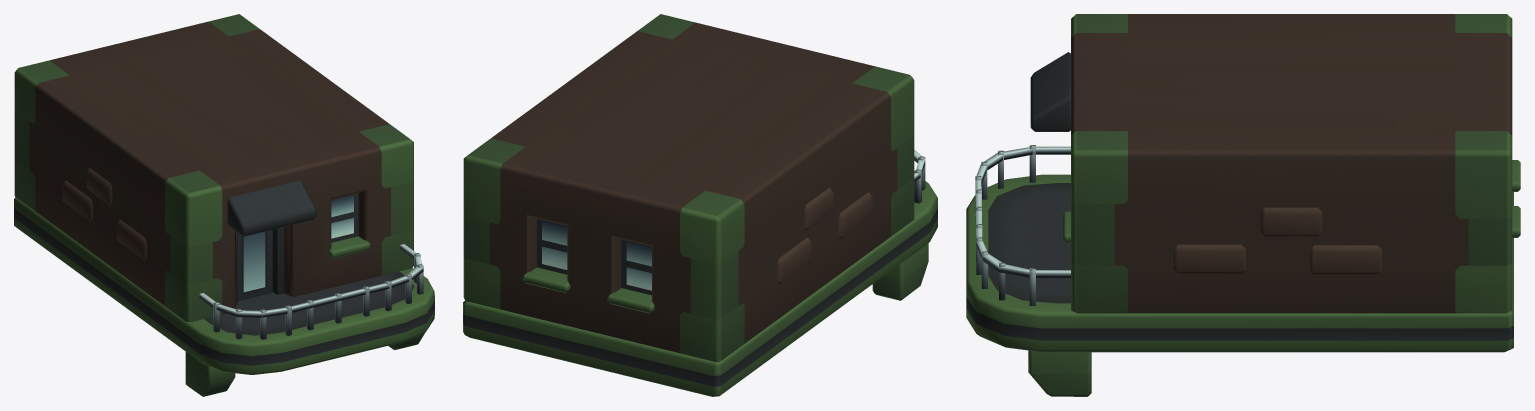
The model's file is appartment_type1_x3_balcony_brown.fbx.
3 renders of one model, left to right at view 1: azimuth 30°, elevation 25°; view 2: azimuth 150°, elevation 25°; view 3: azimuth 270°, elevation 25°, orthographic. The views are drawn at different scales.
Parts seen in each view (by area): view 1: appartment_type1_x3_balcony_brown, door_appartment_type1_x3_balcony_grey; view 2: appartment_type1_x3_balcony_brown; view 3: appartment_type1_x3_balcony_brown.
Boxes of the visible parts, left/top/right/bottom form: appartment_type1_x3_balcony_brown: left=14, top=14, right=434, bottom=396; door_appartment_type1_x3_balcony_grey: left=237, top=230, right=272, bottom=301; appartment_type1_x3_balcony_brown: left=463, top=14, right=937, bottom=396; appartment_type1_x3_balcony_brown: left=966, top=14, right=1520, bottom=396.
Bounding box in the file's own units: 628 × 505 × 1017.
